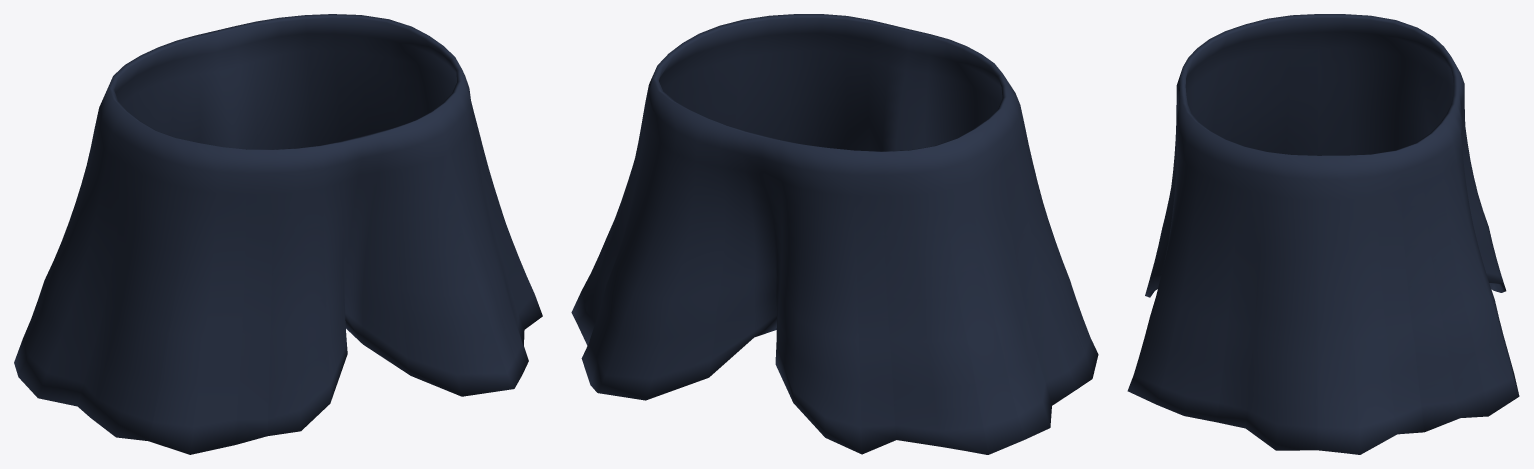
Rendered from chiripa_painefil.glb.
The picture shows the model from 3 angles, left to right: view 1: azimuth 30°, elevation 25°; view 2: azimuth 150°, elevation 25°; view 3: azimuth 270°, elevation 25°; orthographic projection. The views are drawn at different scales.
Visible parts, largest first — view 1: chiripa_painefil; view 2: chiripa_painefil; view 3: chiripa_painefil.
Part boxes in pixels (box(x1,y1,x2,y2)): chiripa_painefil: box(14, 14, 542, 454); chiripa_painefil: box(571, 14, 1098, 454); chiripa_painefil: box(1127, 14, 1519, 454).
Bounding box in the file's own units: 0.7496 × 0.418 × 0.5666.
